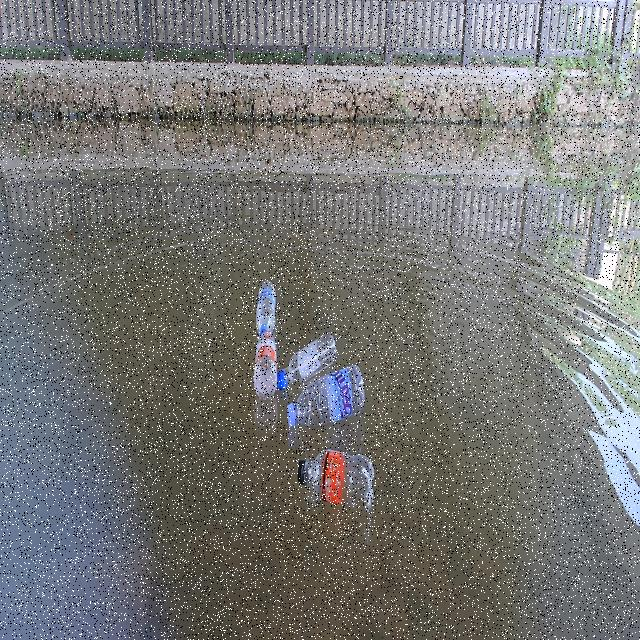Bottle: (293, 444, 375, 515), (286, 366, 365, 429), (278, 326, 338, 380), (252, 329, 278, 401), (254, 273, 278, 335)
